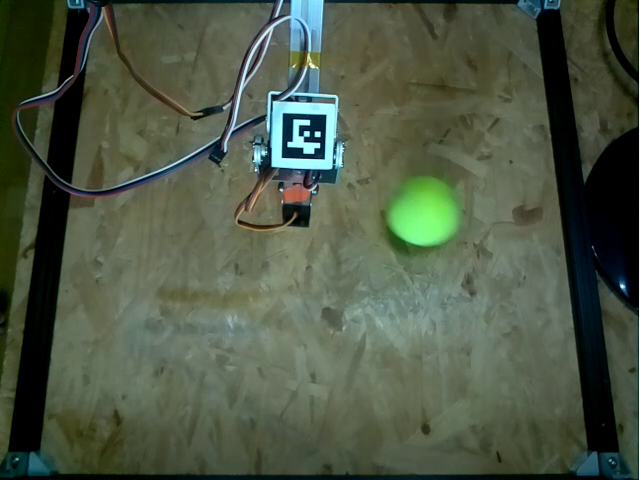tennis_ball: (387, 176, 463, 246)
